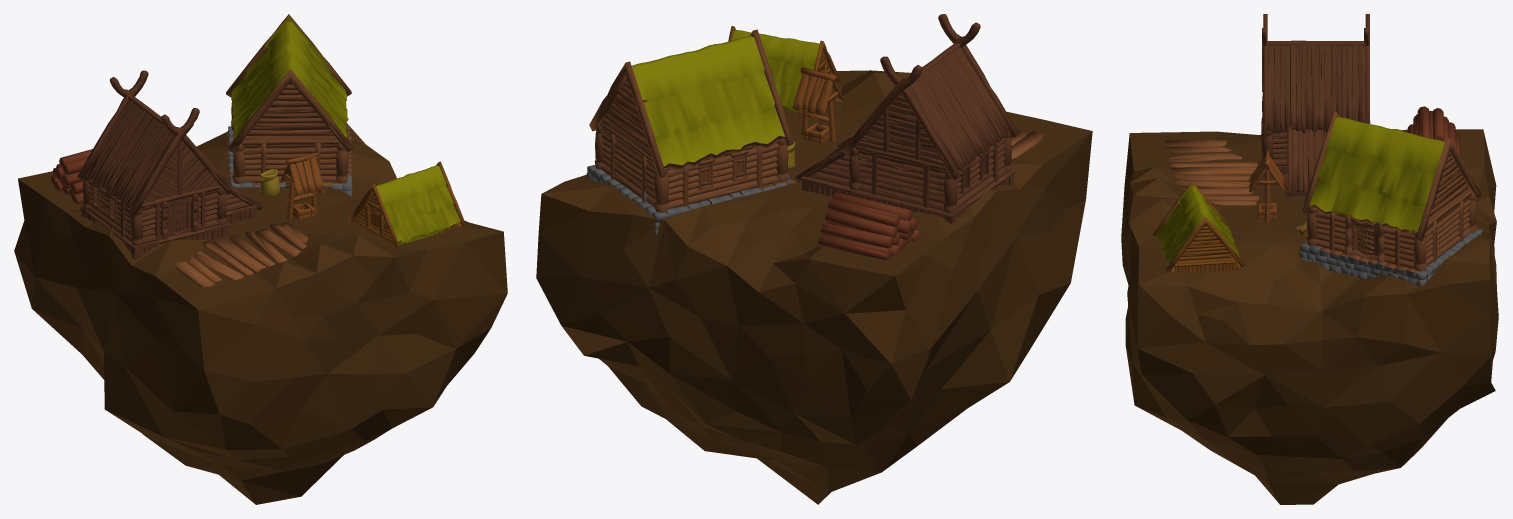
Rendered from village.fbx.
3 renders of one model, left to right at view 1: azimuth 30°, elevation 25°; view 2: azimuth 150°, elevation 25°; view 3: azimuth 270°, elevation 25°, orthographic. The views are drawn at different scales.
Visible parts, largest first — view 1: Икосфера, rpgpp_lt_building_03, rpgpp_lt_building_04, rpgpp_lt_building_04.001, rpgpp_lt_building_02.001, rpgpp_lt_wood_path_01a, rpgpp_lt_well_01, rpgpp_lt_building_02, rpgpp_lt_log_wood_01, rpgpp_lt_building_04.002; view 2: Икосфера, rpgpp_lt_building_03, rpgpp_lt_building_04.001, rpgpp_lt_building_04, rpgpp_lt_log_wood_01, rpgpp_lt_building_02.001, rpgpp_lt_well_01, rpgpp_lt_building_04.002, rpgpp_lt_wood_path_01a; view 3: Икосфера, rpgpp_lt_building_03, rpgpp_lt_building_04.001, rpgpp_lt_building_04, rpgpp_lt_wood_path_01a, rpgpp_lt_building_02, rpgpp_lt_building_04.002, rpgpp_lt_building_02.001, rpgpp_lt_log_wood_01, rpgpp_lt_well_01.
Boxes of the visible parts, x1=… form: Икосфера: x1=14, y1=124, x2=507, y2=504; rpgpp_lt_building_03: x1=77, y1=70, x2=262, y2=260; rpgpp_lt_building_04: x1=226, y1=14, x2=353, y2=192; rpgpp_lt_building_04.001: x1=231, y1=16, x2=348, y2=138; rpgpp_lt_building_02.001: x1=376, y1=162, x2=460, y2=244; rpgpp_lt_wood_path_01a: x1=173, y1=222, x2=308, y2=288; rpgpp_lt_well_01: x1=280, y1=152, x2=325, y2=219; rpgpp_lt_building_02: x1=348, y1=161, x2=465, y2=247; rpgpp_lt_log_wood_01: x1=50, y1=149, x2=92, y2=203; rpgpp_lt_building_04.002: x1=228, y1=125, x2=352, y2=196; Икосфера: x1=536, y1=70, x2=1092, y2=504; rpgpp_lt_building_03: x1=795, y1=14, x2=1018, y2=223; rpgpp_lt_building_04.001: x1=631, y1=36, x2=785, y2=166; rpgpp_lt_building_04: x1=589, y1=29, x2=795, y2=213; rpgpp_lt_log_wood_01: x1=818, y1=192, x2=920, y2=259; rpgpp_lt_building_02.001: x1=731, y1=27, x2=819, y2=111; rpgpp_lt_well_01: x1=792, y1=67, x2=843, y2=143; rpgpp_lt_building_04.002: x1=586, y1=165, x2=794, y2=235; rpgpp_lt_wood_path_01a: x1=847, y1=129, x2=1044, y2=158; Икосфера: x1=1121, y1=129, x2=1498, y2=504; rpgpp_lt_building_03: x1=1261, y1=14, x2=1370, y2=196; rpgpp_lt_building_04.001: x1=1309, y1=116, x2=1444, y2=232; rpgpp_lt_building_04: x1=1302, y1=111, x2=1480, y2=284; rpgpp_lt_wood_path_01a: x1=1165, y1=140, x2=1258, y2=205; rpgpp_lt_building_02: x1=1153, y1=181, x2=1245, y2=272; rpgpp_lt_building_04.002: x1=1299, y1=229, x2=1482, y2=285; rpgpp_lt_building_02.001: x1=1157, y1=183, x2=1244, y2=263; rpgpp_lt_log_wood_01: x1=1405, y1=106, x2=1460, y2=156; rpgpp_lt_well_01: x1=1248, y1=149, x2=1286, y2=221.
Size of the model in its own units: 137 by 173 by 136.
